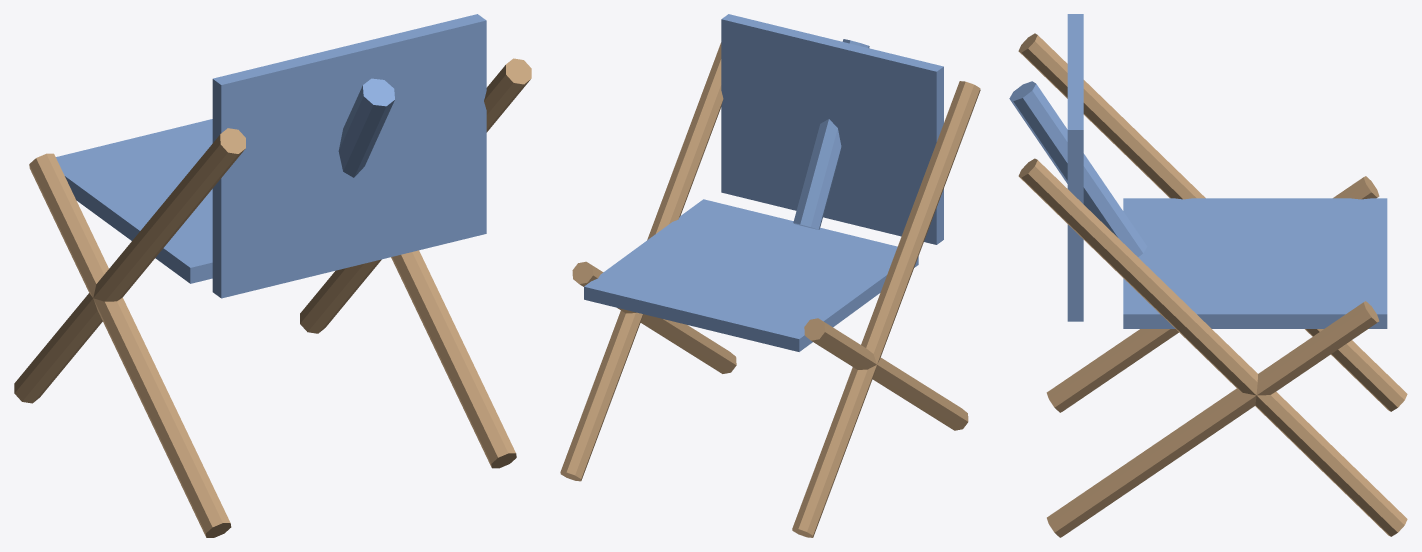
File: deck_chair.glb
3 renders of one model, left to right at view 1: azimuth 30°, elevation 25°; view 2: azimuth 150°, elevation 25°; view 3: azimuth 270°, elevation 25°, orthographic. The views are drawn at different scales.
Visible parts, largest first — view 1: deck_chair; view 2: deck_chair; view 3: deck_chair.
Part boxes in pixels (box(x1,y1,x2,y2)): deck_chair: box(14, 14, 531, 537); deck_chair: box(560, 14, 980, 537); deck_chair: box(1009, 14, 1407, 537).
Bounding box in the file's own units: 0.61 × 0.84 × 0.7538.
